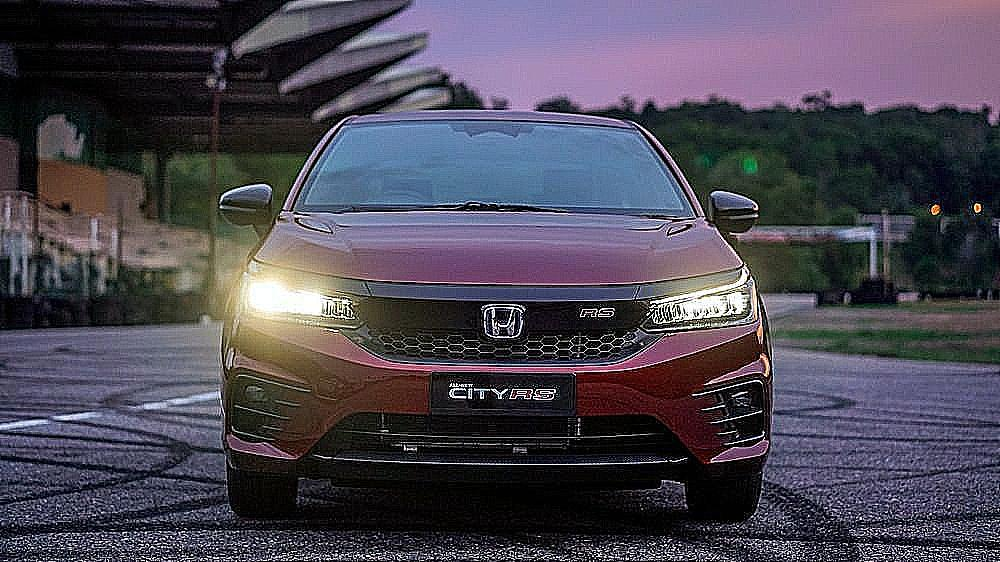Car hood: (251, 205, 746, 291)
Front bumper: (218, 324, 784, 480)
Headlight - -L-: (625, 258, 769, 339), (694, 184, 765, 239)
Headlight - -R-: (229, 253, 380, 338), (215, 178, 283, 245)
